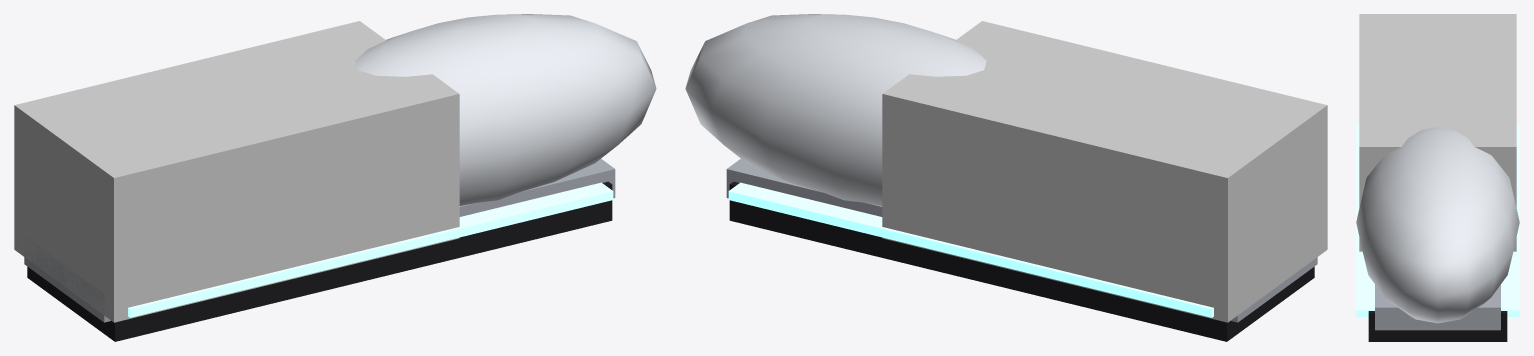
File: loco_maglev_2030.glb
The picture shows the model from 3 angles, left to right: view 1: azimuth 30°, elevation 25°; view 2: azimuth 150°, elevation 25°; view 3: azimuth 270°, elevation 25°; orthographic projection. The views are drawn at different scales.
Parts seen in each view (by area): view 1: Body, Nose, Chassis, Glow, Skirt; view 2: Body, Nose, Chassis, Glow, Skirt; view 3: Nose, Body, Glow, Skirt, Chassis.
Part boxes in pixels (box(x1,y1,x2,y2)): Body: box(14, 21, 459, 322); Nose: box(355, 14, 656, 205); Chassis: box(27, 181, 612, 341); Glow: box(128, 182, 613, 317); Skirt: box(24, 159, 615, 322); Body: box(882, 21, 1327, 322); Nose: box(685, 14, 986, 205); Chassis: box(729, 181, 1314, 341); Glow: box(728, 182, 1213, 317); Skirt: box(726, 159, 1317, 322); Nose: box(1356, 127, 1519, 323); Body: box(1359, 14, 1516, 251); Glow: box(1356, 124, 1519, 316); Skirt: box(1375, 284, 1500, 330); Chassis: box(1368, 311, 1507, 341).
Size of the model in its own units: 0.85 by 0.255 by 0.26.
